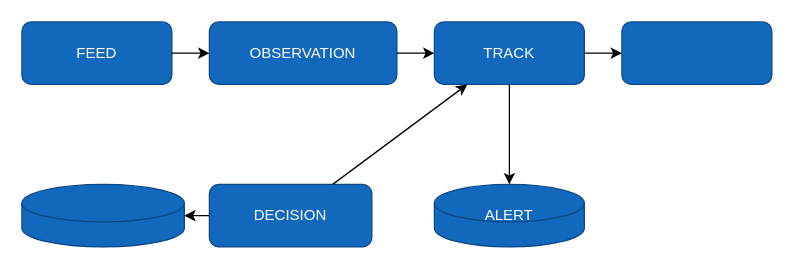
The diagram is 794 pixels wide and 269 high, and some of its shapes have lost their labels. The box of each missing label's shape, as (x1, y1, x2, y2) in pixels:
ACTION_LOG: (21, 183, 184, 247)
ENTITY: (621, 21, 772, 84)
